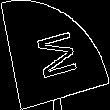M_W: (30, 26, 80, 84)
